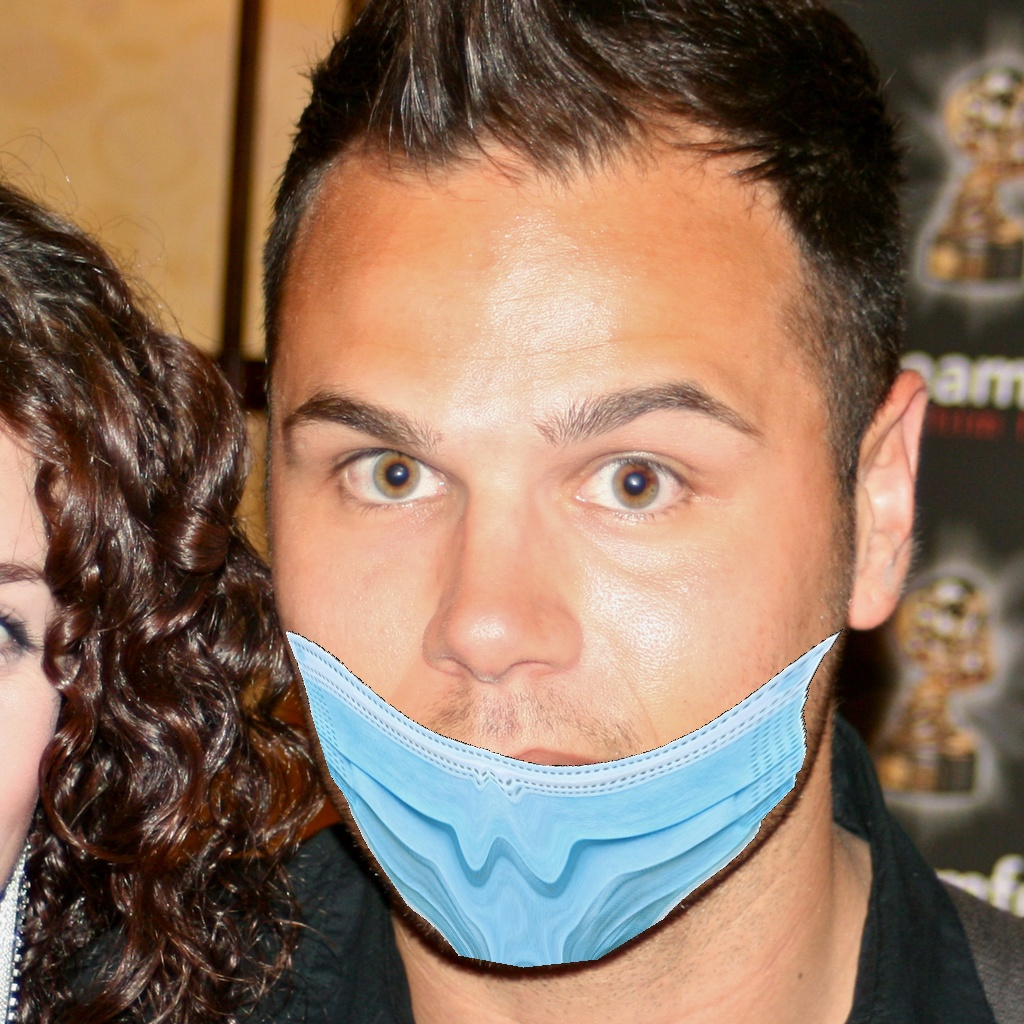mask_weared_incorrect: (255, 388, 847, 984)
